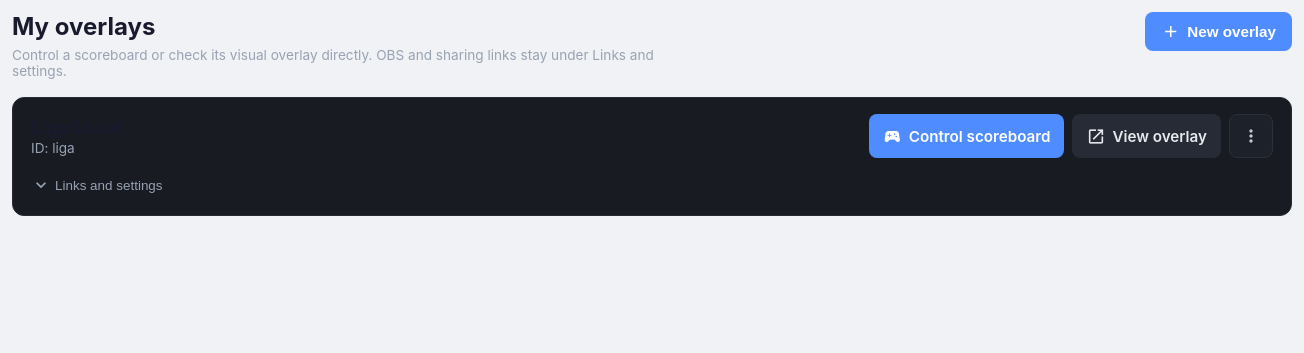
Scenario: OverlaysPage flows › keeps the last good list under the banner when a refresh fails
Click the button named "more actions" at (1251, 136), box [1229, 114, 1273, 158]
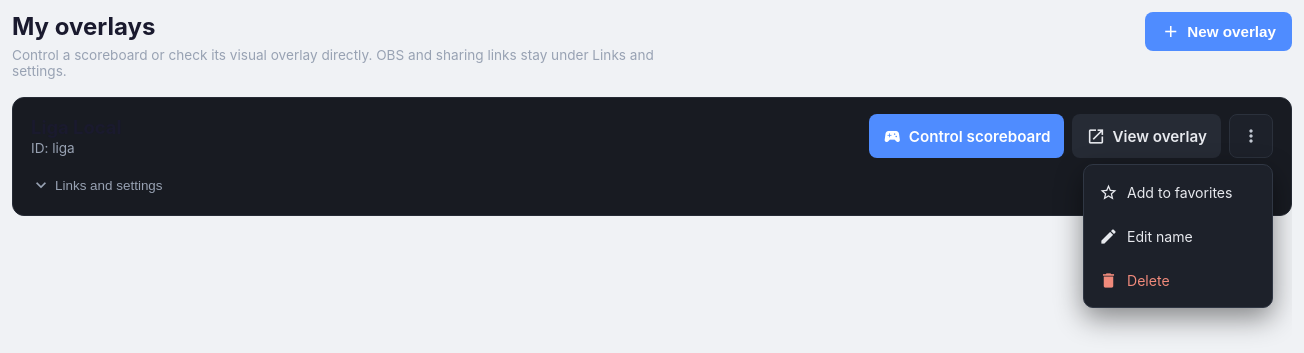
Click the button "Add to favorites" at (1178, 192), box [1089, 170, 1267, 214]
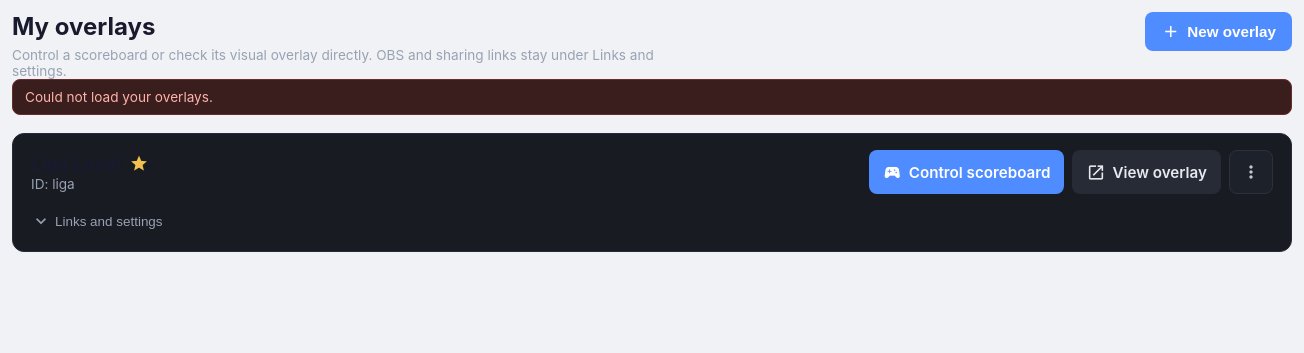
Now the text "Could not load your overlays." is shown, box [12, 79, 1292, 115]
